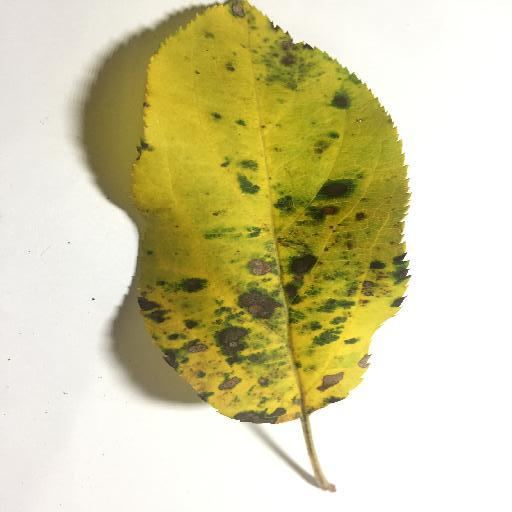Brown_Spot: (248, 289, 284, 318), (361, 272, 395, 302), (276, 41, 303, 76), (216, 328, 248, 355), (245, 252, 273, 279), (321, 201, 346, 219), (187, 340, 211, 354), (230, 3, 250, 19), (219, 377, 243, 389), (315, 374, 340, 385), (358, 355, 371, 364)
